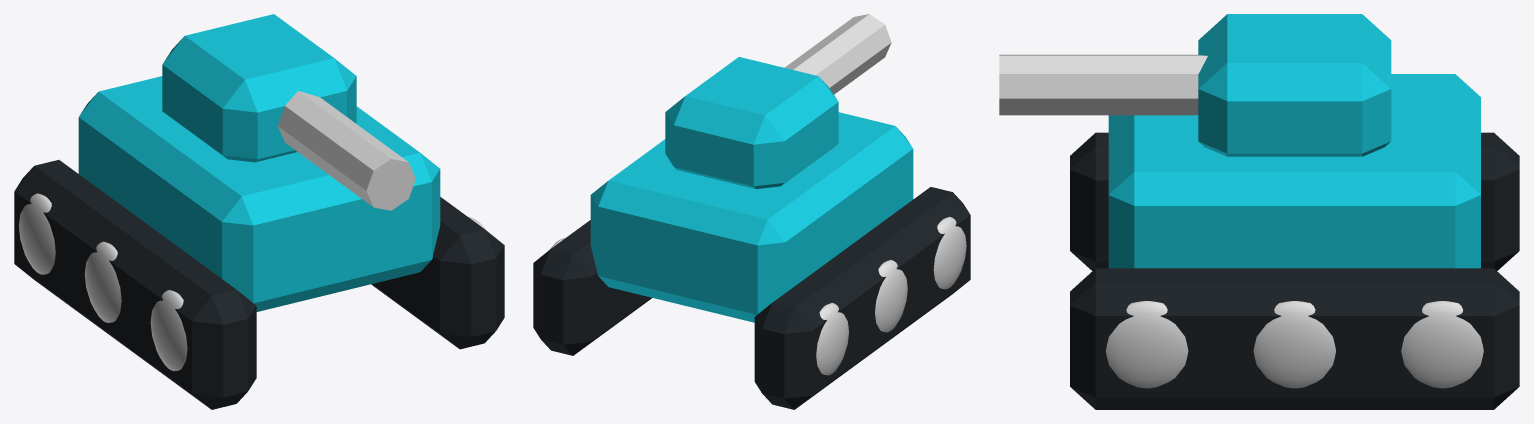
The model's file is enemy-tank.glb.
3 views of the same model, side by side, from view 1: azimuth 30°, elevation 25°; view 2: azimuth 150°, elevation 25°; view 3: azimuth 270°, elevation 25° (orthographic). The views are drawn at different scales.
Parts seen in each view (by area): view 1: enemy-tank; view 2: enemy-tank; view 3: enemy-tank.
Part boxes in pixels (bbox=[...]): enemy-tank: bbox=[14, 14, 504, 409]; enemy-tank: bbox=[533, 14, 970, 409]; enemy-tank: bbox=[999, 14, 1519, 409].
Size of the model in its own units: 0.652 by 0.51 by 0.81.
